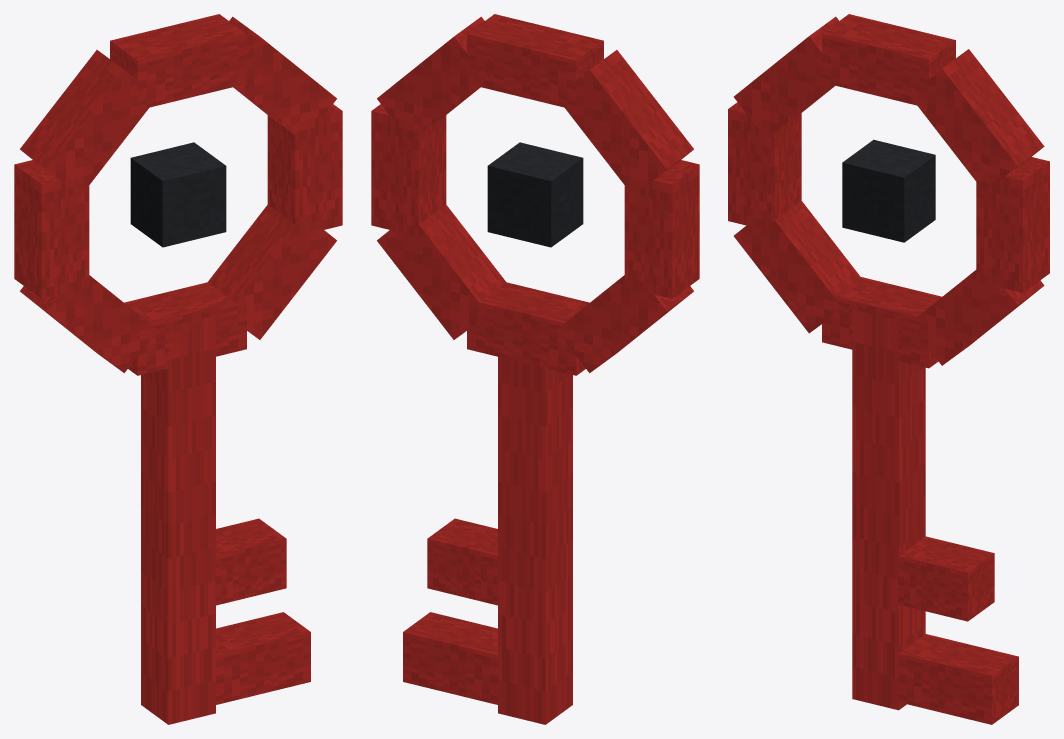
Rendered from pickup_key_red.glb.
The picture shows the model from 3 angles, left to right: view 1: azimuth 30°, elevation 25°; view 2: azimuth 150°, elevation 25°; view 3: azimuth 330°, elevation 25°; orthographic projection. The views are drawn at different scales.
Parts seen in each view (by area): view 1: pickup_key_red; view 2: pickup_key_red; view 3: pickup_key_red.
Boxes of the visible parts, bbox=[...] form: pickup_key_red: bbox=[14, 14, 342, 724]; pickup_key_red: bbox=[371, 14, 699, 724]; pickup_key_red: bbox=[728, 14, 1049, 724].
Bounding box in the file's own units: 0.19 × 0.405 × 0.035.
Materials: 2 (2 with a texture image).
